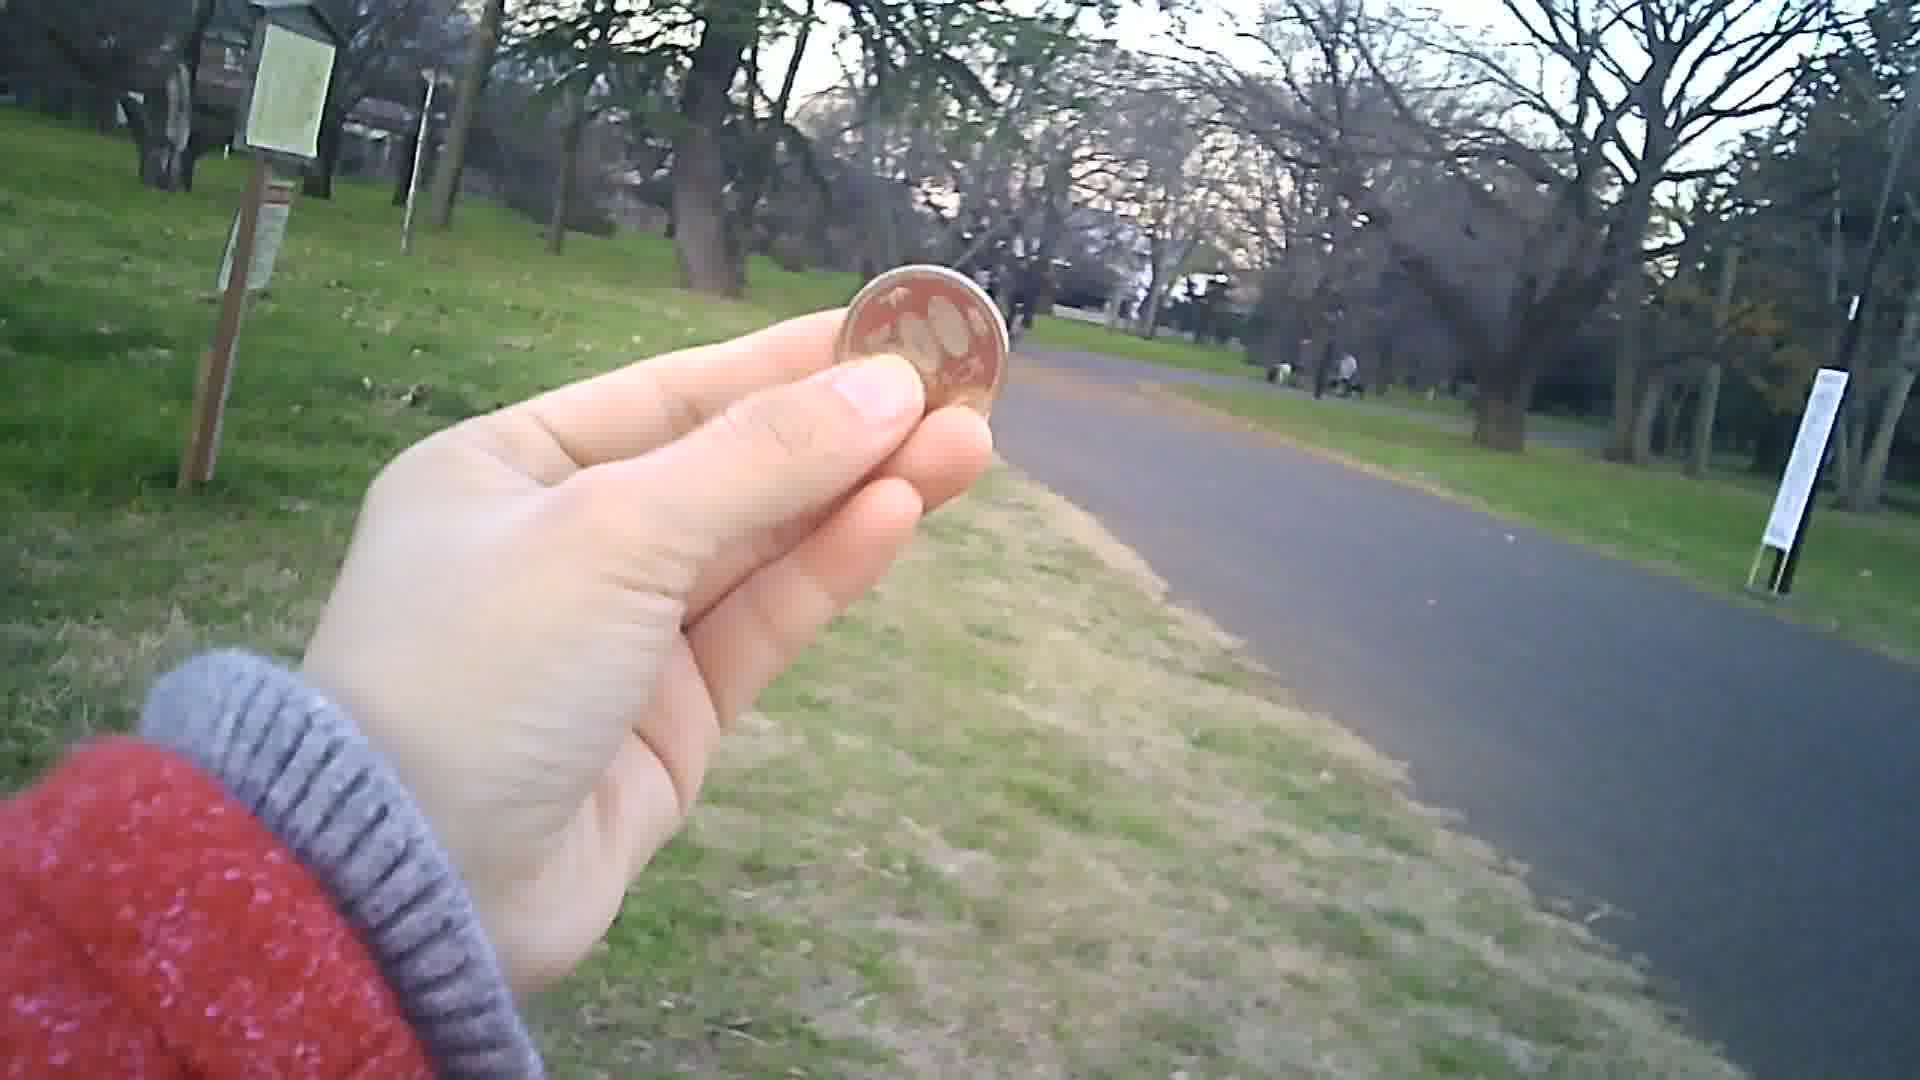500 Yen: (829, 258, 1013, 439)
